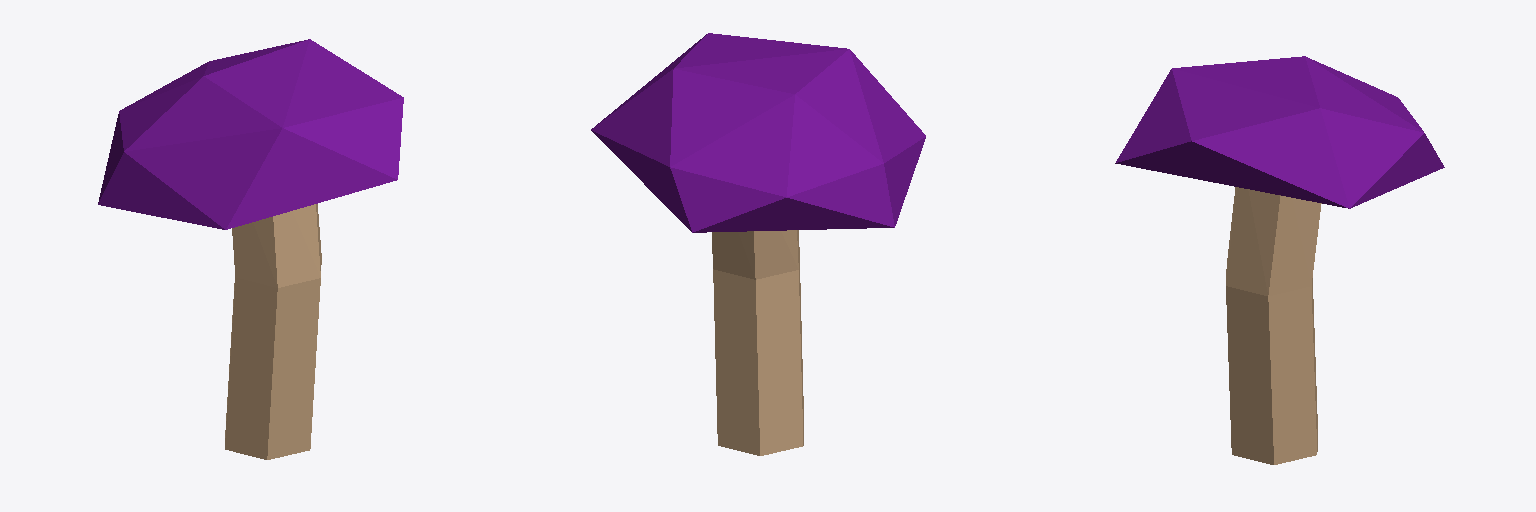
Rendered from small_purple_mushroom.obj.
3 views of the same model, side by side, from view 1: azimuth 30°, elevation 25°; view 2: azimuth 150°, elevation 25°; view 3: azimuth 270°, elevation 25° (orthographic).
Visible parts, largest first — view 1: Mushroom3; view 2: Mushroom3; view 3: Mushroom3.
Part boxes in pixels (x1,y1,x2,y2): Mushroom3: (98, 39, 403, 459); Mushroom3: (591, 33, 925, 455); Mushroom3: (1115, 56, 1444, 464).
Size of the model in its own units: 0.1998 by 0.2463 by 0.2.